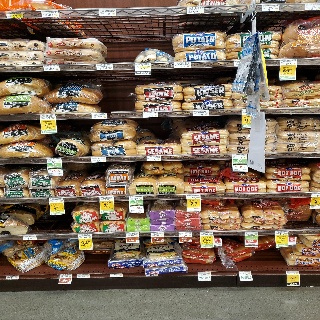All PRICE TAGS: (41, 9, 58, 17), (99, 8, 117, 15), (96, 63, 113, 70), (134, 62, 151, 69), (6, 11, 22, 18), (186, 7, 204, 13), (262, 5, 279, 11), (174, 62, 191, 68), (281, 59, 297, 65), (43, 65, 59, 71), (143, 111, 159, 117), (193, 110, 209, 116), (305, 4, 320, 10), (40, 114, 56, 119), (91, 113, 107, 118), (91, 157, 106, 162), (146, 156, 161, 161), (232, 154, 247, 159), (47, 158, 61, 163), (99, 196, 113, 201), (129, 195, 143, 200), (186, 194, 200, 199), (78, 233, 92, 238), (125, 232, 139, 237), (150, 232, 164, 237), (179, 232, 192, 237), (23, 236, 37, 240), (50, 198, 64, 202), (286, 271, 299, 275), (245, 232, 258, 236), (275, 231, 288, 235), (200, 232, 213, 236), (77, 274, 90, 278), (110, 273, 123, 277), (239, 271, 251, 275), (60, 274, 72, 278), (198, 272, 210, 276), (5, 276, 18, 279), (311, 193, 320, 197), (234, 61, 239, 66), (242, 109, 247, 114), (146, 275, 158, 276)
